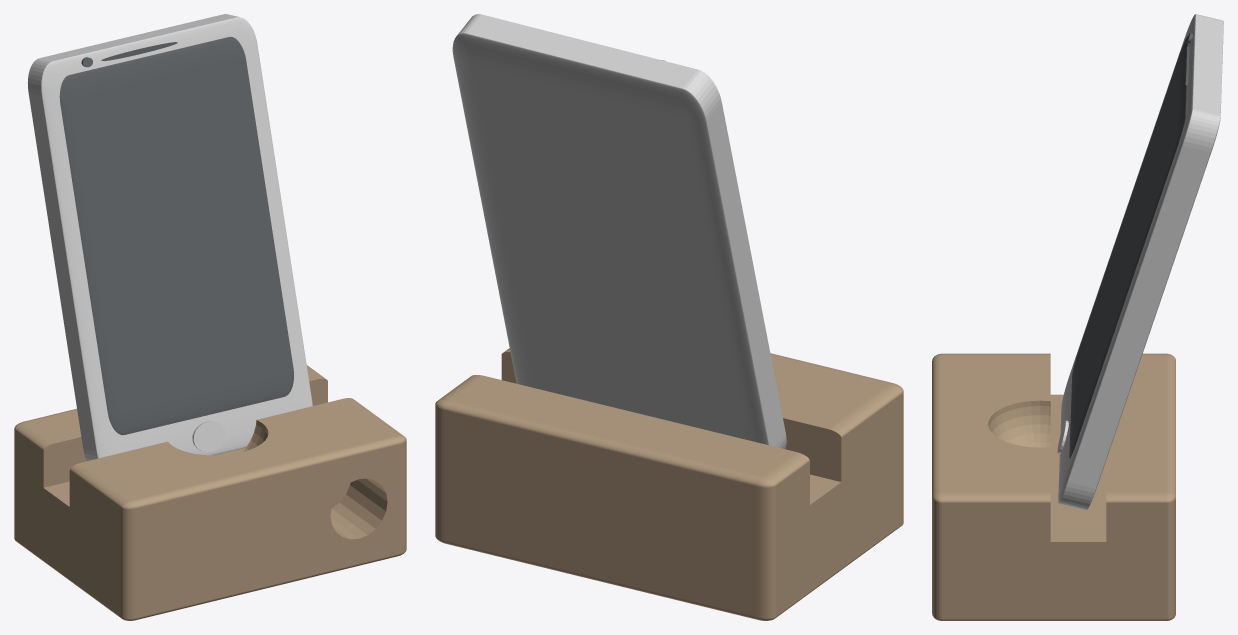
Rendered from 3_pid_3.gltf.
3 views of the same model, side by side, from view 1: azimuth 30°, elevation 25°; view 2: azimuth 150°, elevation 25°; view 3: azimuth 270°, elevation 25° (orthographic). The views are drawn at different scales.
Visible parts, largest first — view 1: Mesh_Mesh_head_geo.001_lambert2SG.001; view 2: Mesh_Mesh_head_geo.001_lambert2SG.001; view 3: Mesh_Mesh_head_geo.001_lambert2SG.001.
Part boxes in pixels (<box>): Mesh_Mesh_head_geo.001_lambert2SG.001: <box>14,14,406,620</box>; Mesh_Mesh_head_geo.001_lambert2SG.001: <box>435,14,903,620</box>; Mesh_Mesh_head_geo.001_lambert2SG.001: <box>932,14,1223,620</box>.
Size of the model in its own units: 50 by 77.38 by 41.84.
